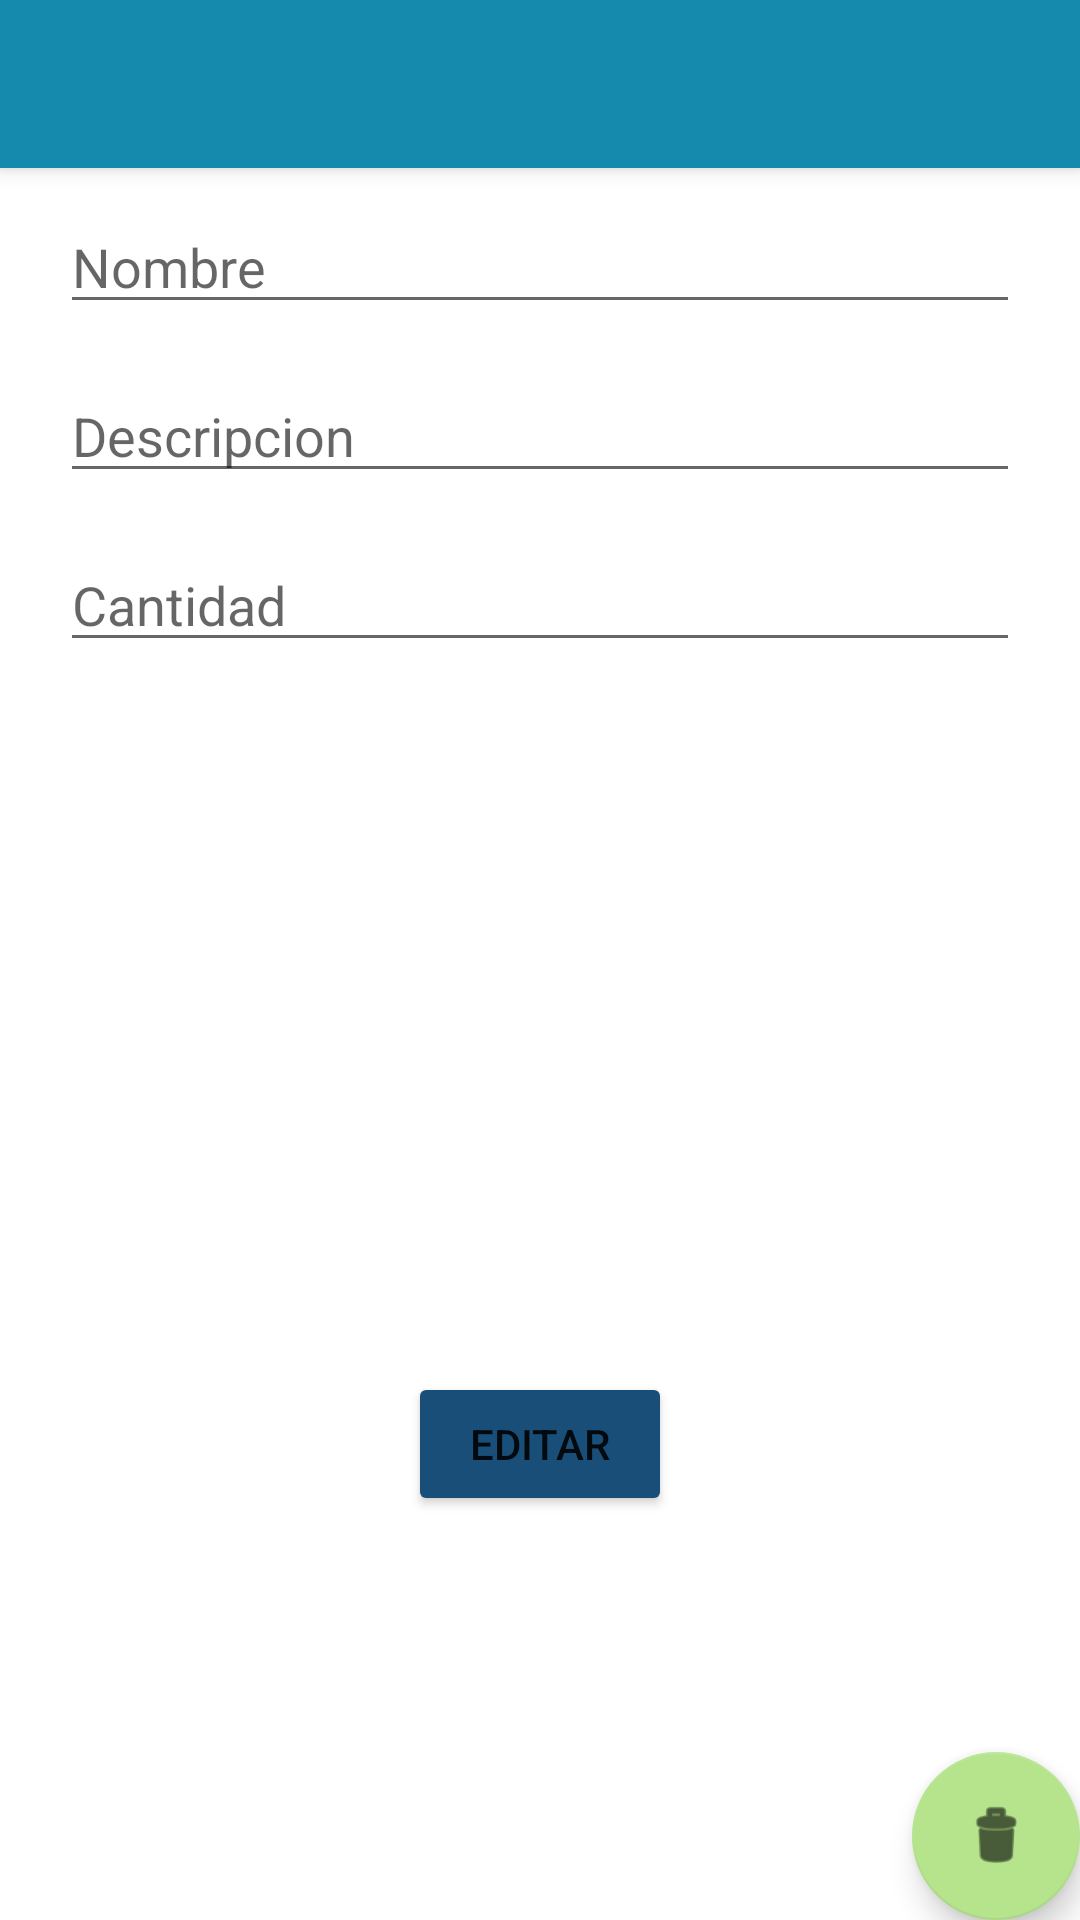

Where to tap for icons on this 1080×1920 app screen, as point (x, y):
delete: point (996, 1836)
